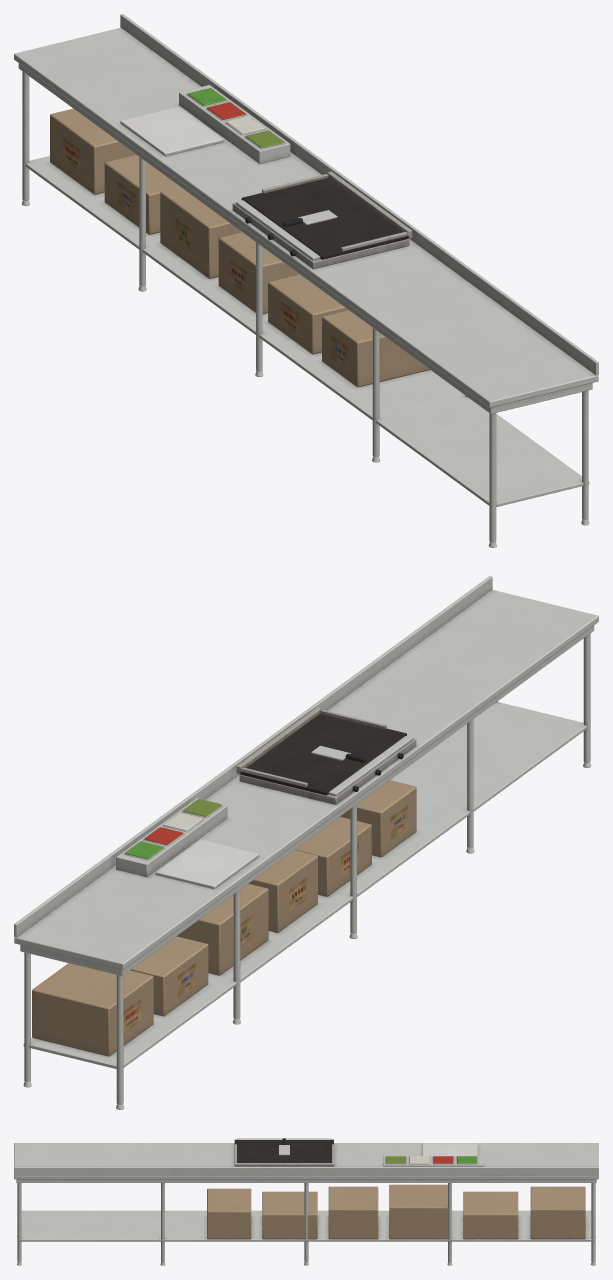
The model's file is PH_KitchenBench.fbx.
3 renders of one model, top to bottom at view 1: azimuth 30°, elevation 25°; view 2: azimuth 150°, elevation 25°; view 3: azimuth 270°, elevation 25°, orthographic. The views are drawn at different scales.
Parts seen in each view (by area): view 1: PH_KitchenBench; view 2: PH_KitchenBench; view 3: PH_KitchenBench.
Part boxes in pixels (box(x1,y1,x2,y2)): PH_KitchenBench: box(14, 14, 598, 547); PH_KitchenBench: box(14, 576, 598, 1109); PH_KitchenBench: box(14, 1138, 598, 1265).
Size of the model in its own units: 0.71 by 1.01 by 5.3.
